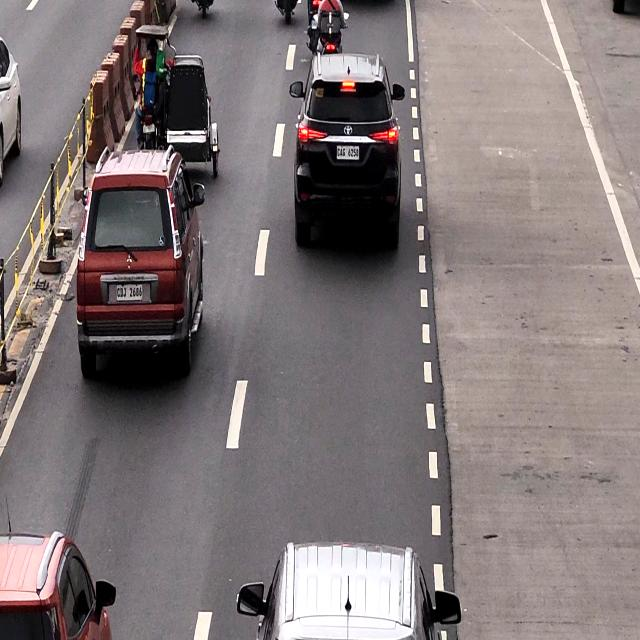Car: (76, 149, 202, 367), (296, 52, 399, 245), (253, 542, 444, 640), (0, 530, 110, 640)
License-Plate: (115, 281, 143, 302), (338, 146, 361, 158)
Tricycle: (131, 28, 220, 174)
